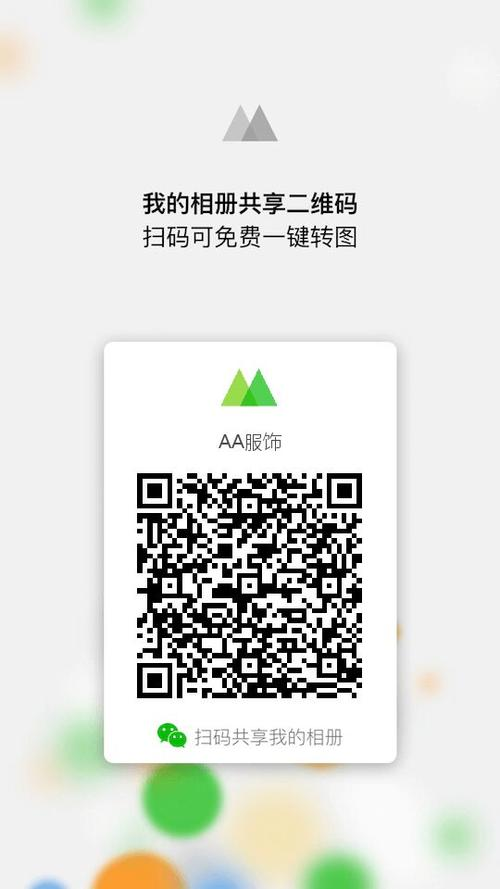QRCode: (130, 465, 365, 704)
